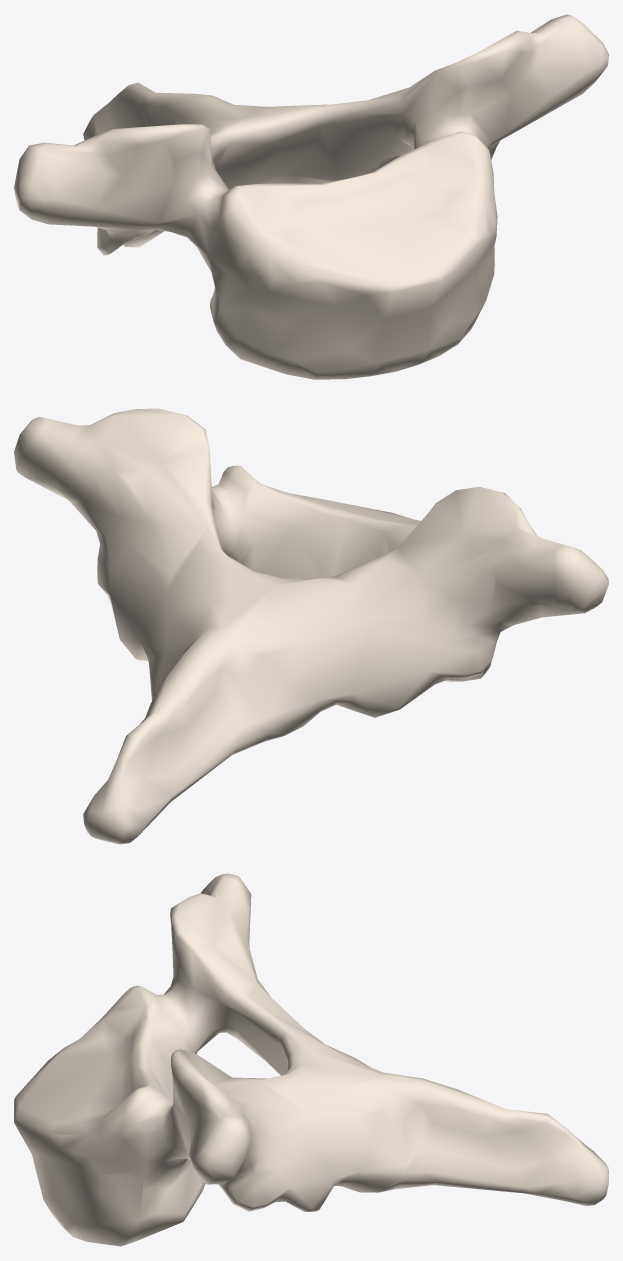
The picture shows the model from 3 angles, top to bottom: view 1: azimuth 30°, elevation 25°; view 2: azimuth 150°, elevation 25°; view 3: azimuth 270°, elevation 25°; orthographic projection. The views are drawn at different scales.
Parts seen in each view (by area): view 1: Thoracic vertebrae (T1); view 2: Thoracic vertebrae (T1); view 3: Thoracic vertebrae (T1).
Boxes of the visible parts, x1,y1,x2,y2 form: Thoracic vertebrae (T1): (14,14,608,379); Thoracic vertebrae (T1): (14,408,608,844); Thoracic vertebrae (T1): (14,873,608,1246).
Size of the model in its own units: 0.0786 by 0.0306 by 0.0733.
